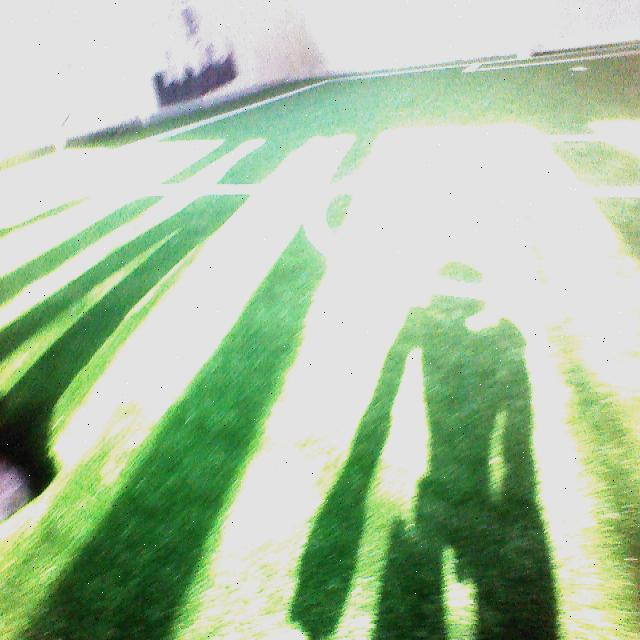goalpost: (513, 4, 532, 60)
